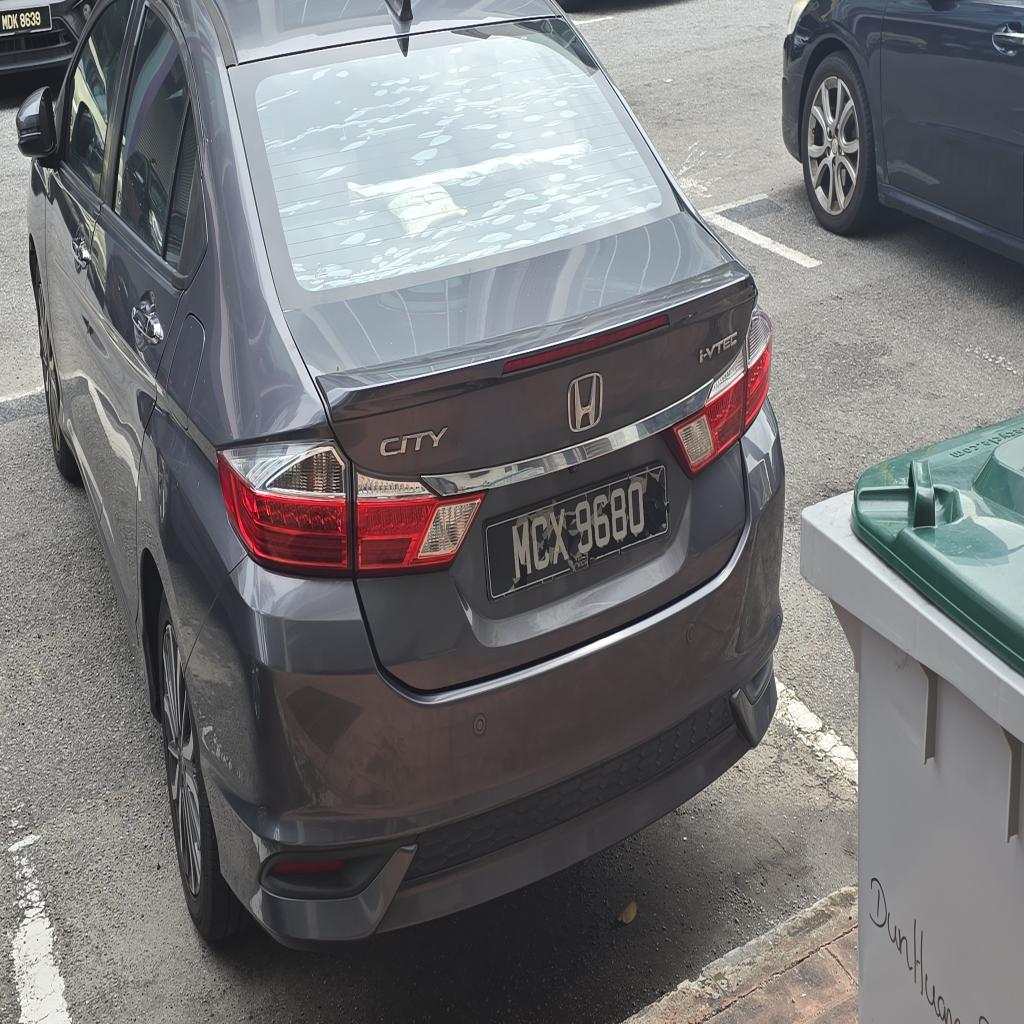car: (18, 0, 783, 944)
car plate: (485, 466, 669, 599)
